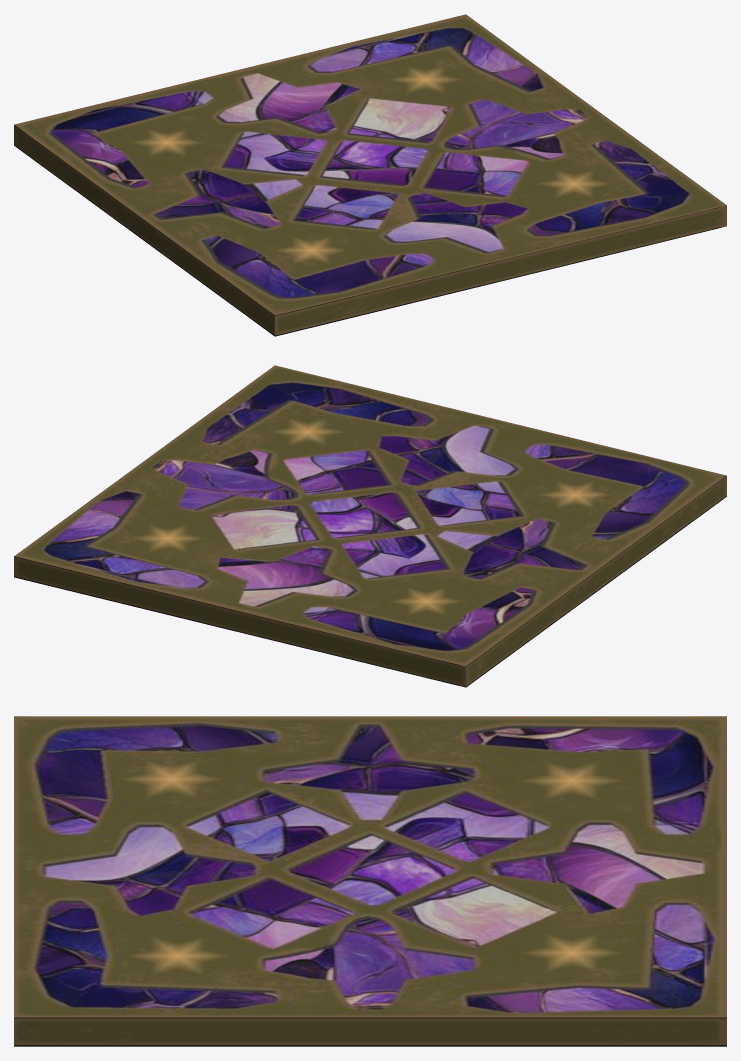
Rendered from tile4Compressed.glb.
3 views of the same model, one above another, from view 1: azimuth 30°, elevation 25°; view 2: azimuth 150°, elevation 25°; view 3: azimuth 270°, elevation 25° (orthographic). The views are drawn at different scales.
Parts seen in each view (by area): view 1: tile4; view 2: tile4; view 3: tile4.
Boxes of the visible parts, bbox=[...] form: tile4: bbox=[14, 14, 726, 336]; tile4: bbox=[14, 365, 726, 687]; tile4: bbox=[14, 716, 726, 1046].
Bounding box in the file's own units: 1 × 0.16 × 1.
2 materials, 1 textured.
